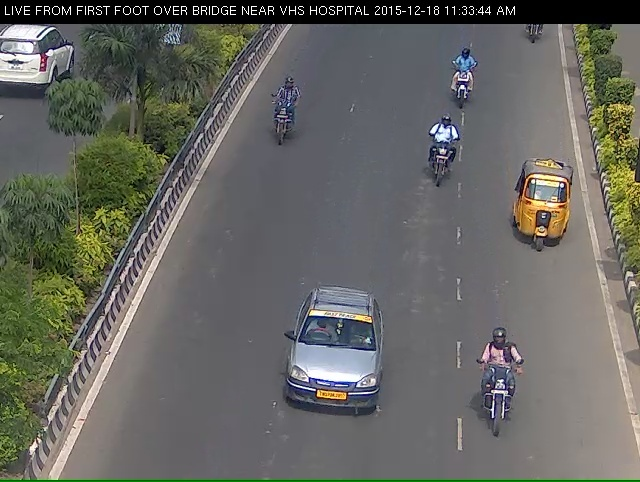Car: (278, 308, 393, 458), (504, 163, 584, 285)
Person: (478, 356, 526, 472), (256, 85, 301, 168), (425, 124, 463, 206), (443, 56, 488, 124)
